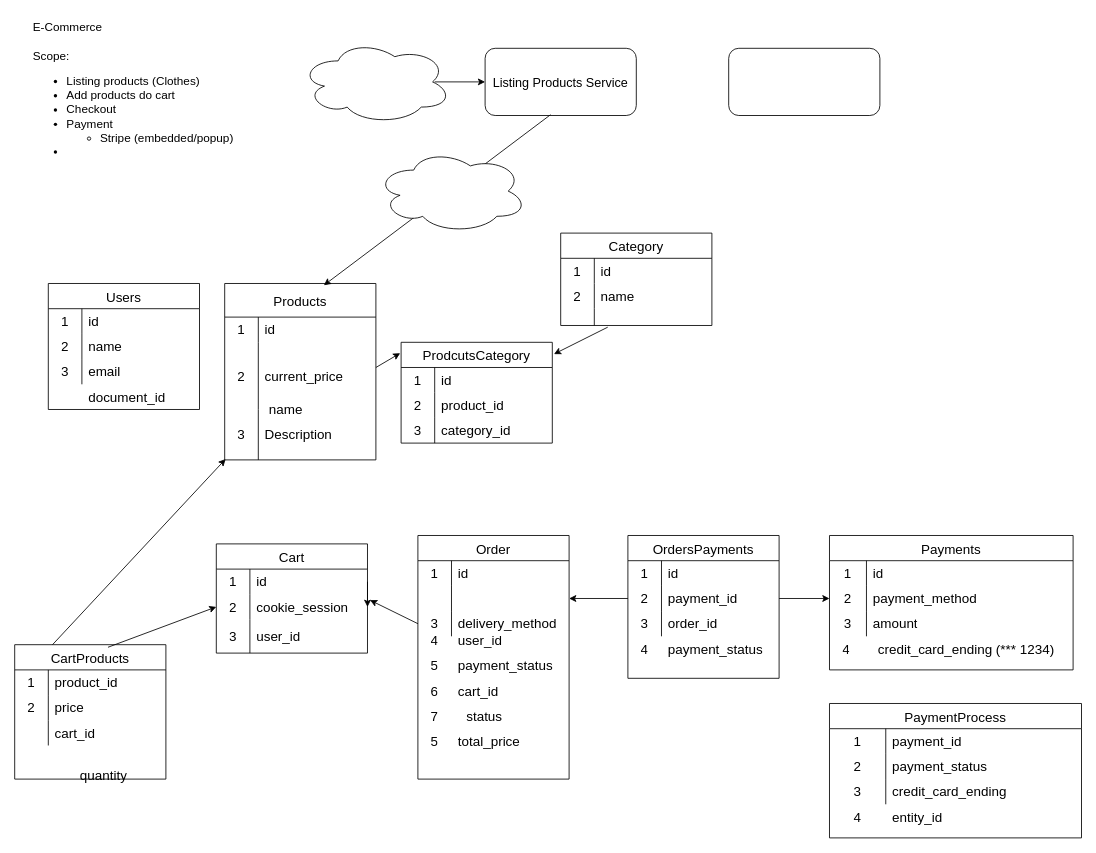
Some shapes in this 1096 by 853 pixel diagram are drawn without their labels. Here are the shapes that lost their labels. From the top down, the centre of each, then its label:
At point (375, 81): "CACHE Endpoints CDNs".
At point (804, 81): "Checkout Service".
At point (451, 190): "Cache layers Database".
